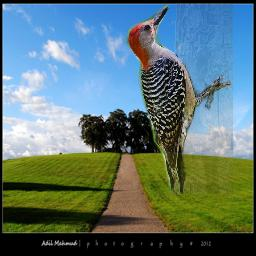Woodpecker: (121, 3, 233, 194)
